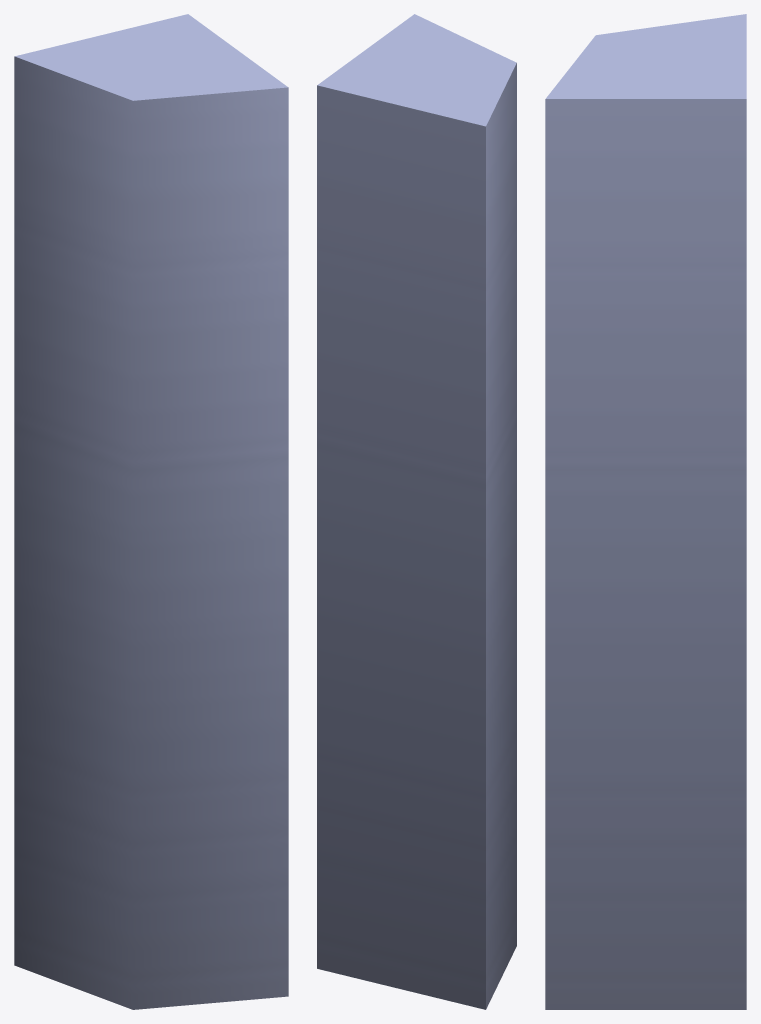
Rendered from column-rounded.fbx.
3 renders of one model, left to right at view 1: azimuth 30°, elevation 25°; view 2: azimuth 150°, elevation 25°; view 3: azimuth 270°, elevation 25°, orthographic. The views are drawn at different scales.
Visible parts, largest first — view 1: column-rounded; view 2: column-rounded; view 3: column-rounded.
Boxes of the visible parts, bbox=[...] form: column-rounded: bbox=[14, 14, 288, 1009]; column-rounded: bbox=[317, 14, 516, 1009]; column-rounded: bbox=[545, 14, 746, 1009].
Size of the model in its own units: 20 by 100 by 20.
